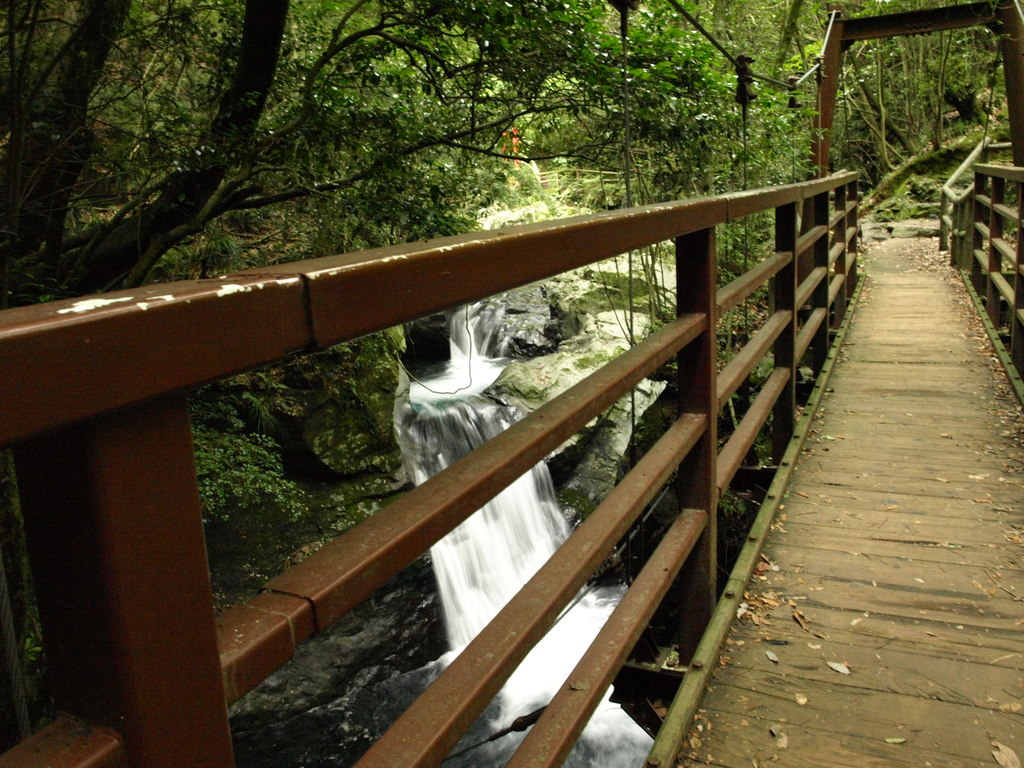Tree: (0, 0, 734, 735), (736, 0, 1019, 215)
